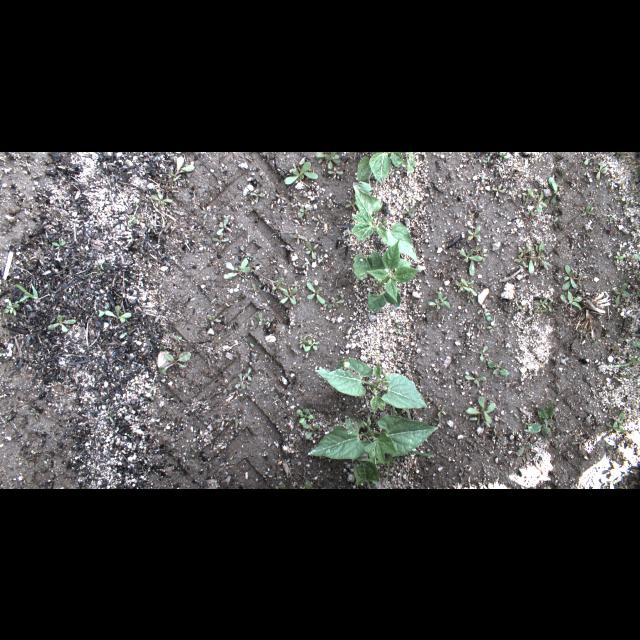crop: (307, 414, 438, 488), (317, 356, 428, 414), (346, 183, 419, 261), (351, 238, 422, 314), (355, 152, 405, 184)
weed: (522, 398, 554, 438), (465, 394, 497, 424), (283, 156, 319, 182), (526, 242, 552, 274), (158, 351, 192, 375), (602, 351, 638, 372), (167, 155, 195, 181), (560, 263, 584, 293), (458, 248, 482, 276), (47, 313, 77, 333), (224, 258, 252, 278), (10, 282, 38, 302), (278, 282, 300, 304), (306, 280, 326, 304), (528, 188, 548, 212), (559, 289, 583, 309), (314, 151, 342, 167), (487, 358, 509, 376), (547, 176, 561, 204), (614, 281, 630, 305), (514, 436, 532, 456), (81, 262, 101, 278), (295, 408, 315, 424), (116, 304, 132, 322), (3, 298, 19, 316), (301, 424, 319, 440), (466, 414, 490, 426), (438, 289, 452, 309), (150, 192, 173, 204), (464, 372, 486, 384), (99, 302, 115, 318), (270, 276, 284, 294), (426, 294, 440, 312), (465, 278, 479, 296), (405, 152, 417, 172), (238, 366, 252, 382), (296, 205, 312, 219), (432, 410, 446, 426), (217, 216, 229, 234), (327, 297, 345, 309), (386, 459, 398, 477), (490, 182, 506, 195), (306, 239, 316, 259), (290, 233, 308, 244), (211, 232, 225, 246), (305, 338, 319, 352), (602, 474, 616, 488), (454, 276, 468, 290), (214, 415, 230, 427), (468, 225, 480, 241), (128, 213, 144, 225), (580, 204, 596, 216), (605, 421, 621, 433), (478, 344, 488, 362), (596, 162, 606, 180), (207, 314, 221, 326), (613, 252, 627, 264), (233, 379, 249, 389), (401, 206, 417, 216), (326, 168, 346, 176), (254, 312, 264, 328), (344, 196, 354, 212), (571, 438, 585, 449), (244, 336, 256, 348), (298, 334, 306, 352), (622, 375, 640, 383), (490, 429, 502, 441), (170, 332, 184, 342), (120, 326, 130, 340), (394, 322, 404, 336), (251, 282, 261, 296), (558, 168, 564, 190), (248, 314, 256, 330), (28, 408, 42, 417), (550, 375, 560, 387), (222, 382, 232, 394), (368, 353, 398, 357), (547, 216, 559, 226), (240, 244, 250, 256), (51, 240, 67, 247), (477, 478, 488, 488), (458, 467, 469, 477), (105, 409, 115, 419), (158, 342, 168, 352), (614, 151, 624, 161), (480, 250, 490, 260), (476, 323, 486, 333), (488, 322, 498, 332), (516, 256, 526, 266), (518, 245, 528, 255), (610, 345, 620, 355), (516, 304, 528, 312), (250, 191, 266, 197), (439, 403, 447, 415), (536, 306, 548, 314), (535, 298, 547, 306), (482, 154, 491, 164), (616, 412, 624, 423), (490, 478, 498, 488), (44, 458, 52, 468), (498, 152, 508, 160), (521, 190, 529, 200), (630, 340, 640, 348), (524, 417, 532, 427), (484, 310, 490, 322), (274, 193, 286, 199), (583, 151, 589, 163), (466, 295, 474, 303), (472, 244, 480, 252), (606, 402, 614, 410), (235, 420, 241, 430), (290, 416, 296, 426), (6, 413, 12, 423), (426, 390, 432, 400), (608, 212, 614, 222), (132, 200, 140, 207), (266, 318, 272, 327), (0, 350, 6, 358), (290, 193, 298, 199), (278, 482, 286, 488), (578, 328, 584, 336), (631, 253, 639, 259), (548, 299, 552, 309), (148, 394, 154, 400), (306, 482, 312, 488), (208, 351, 216, 355), (0, 484, 6, 488), (54, 448, 58, 454), (150, 388, 156, 392), (477, 308, 481, 314), (636, 290, 640, 296), (547, 486, 555, 488)
